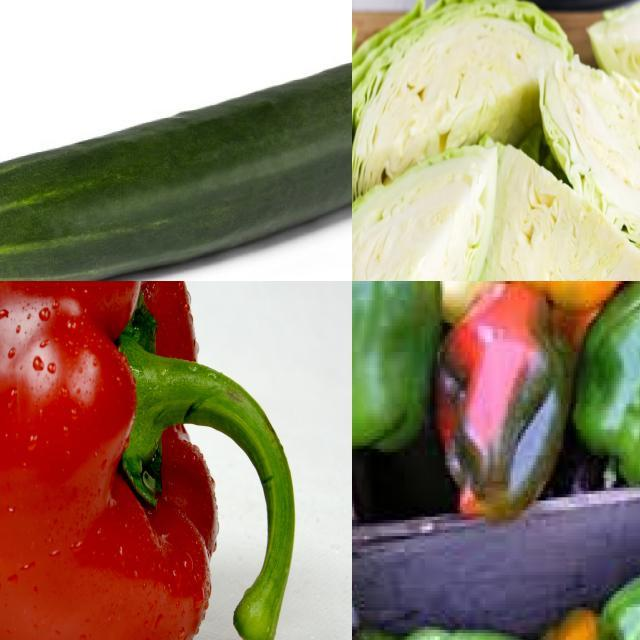bell_pepper: (1, 282, 293, 640), (431, 282, 575, 537), (576, 282, 640, 504)
cabbage: (353, 1, 579, 230), (478, 134, 640, 282), (536, 50, 640, 261), (353, 143, 504, 282), (585, 1, 640, 139)
cucumber: (1, 46, 353, 282)
